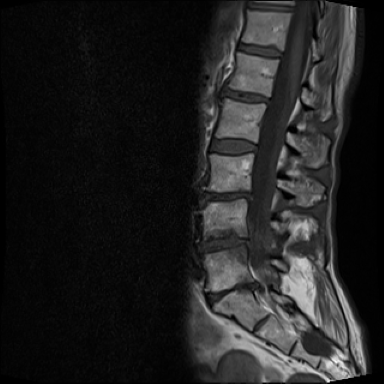Degenerative Disc Disease (DDD): (203, 277, 267, 311), (195, 229, 261, 258), (217, 84, 278, 108), (246, 1, 298, 13)
Lumbar Disc Bulge (LDB): (200, 274, 270, 315), (191, 229, 263, 259), (200, 185, 264, 207)
Normal IVD: (205, 135, 262, 157), (235, 40, 288, 61)
Spinal Stenosis (SS): (246, 274, 263, 296), (243, 187, 262, 206), (243, 233, 258, 255)
Spondylolisthesis: (196, 262, 280, 331)
